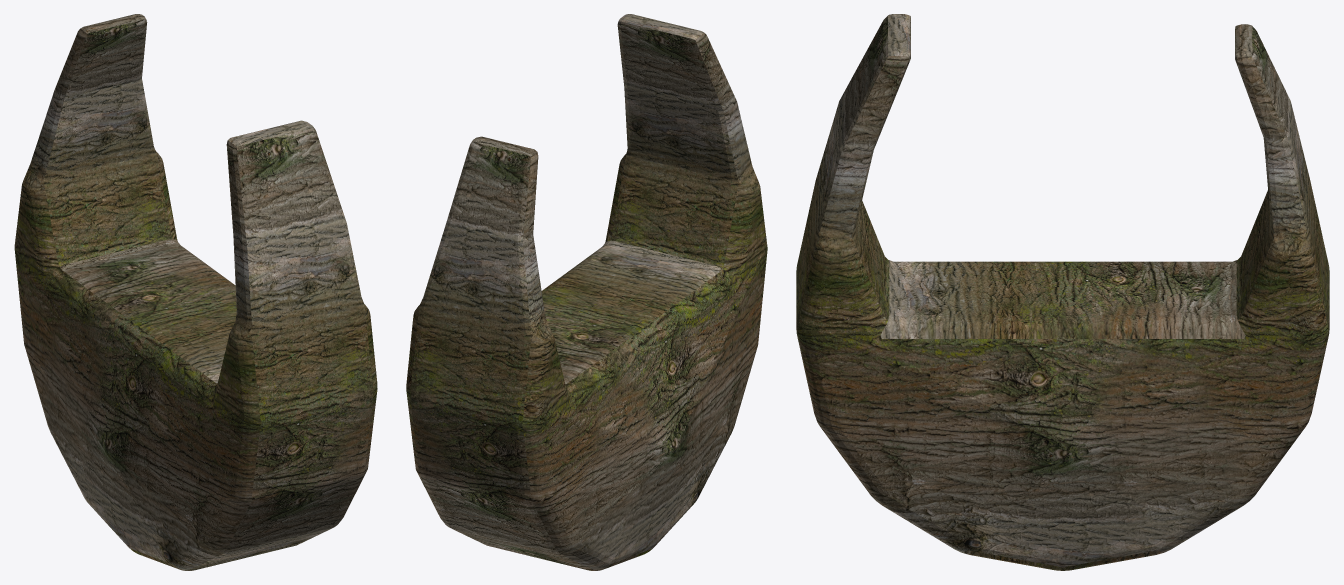
File: Log1.fbx
3 renders of one model, left to right at view 1: azimuth 30°, elevation 25°; view 2: azimuth 150°, elevation 25°; view 3: azimuth 270°, elevation 25°, orthographic. The views are drawn at different scales.
Parts seen in each view (by area): view 1: Log1; view 2: Log1; view 3: Log1.
Part boxes in pixels (x1=…): Log1: x1=14, y1=14, x2=377, y2=570; Log1: x1=406, y1=14, x2=767, y2=570; Log1: x1=796, y1=14, x2=1329, y2=570.
Size of the model in its own units: 121 by 315 by 299.
